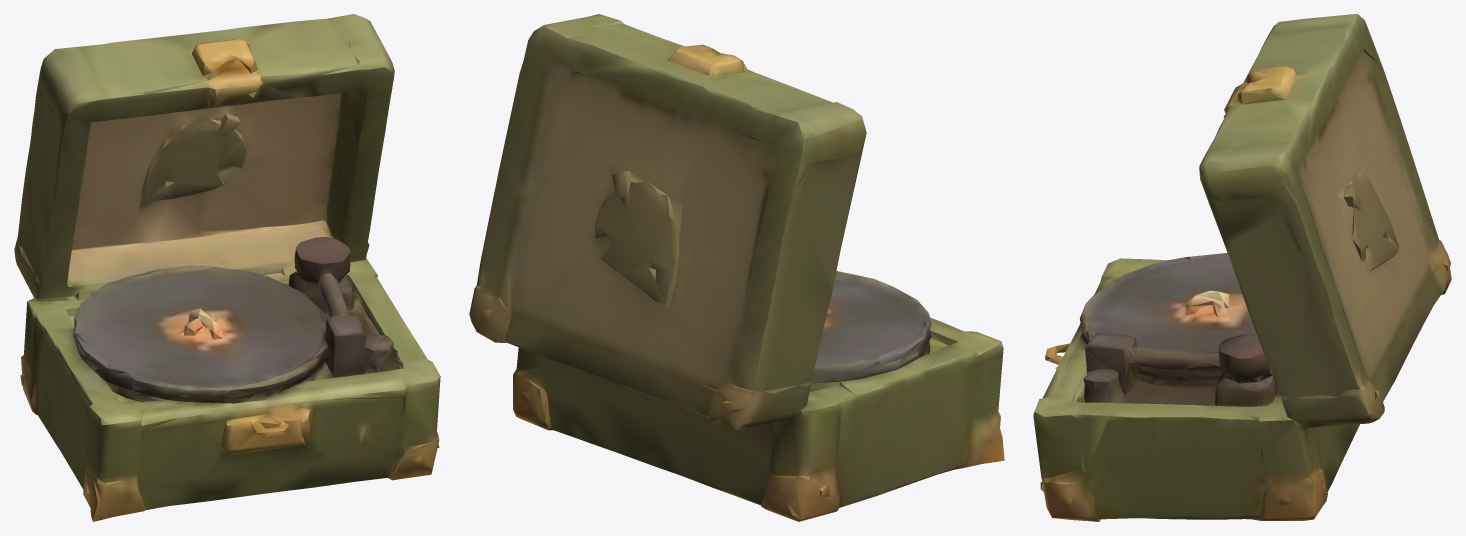
The model's file is deco12.glb.
3 renders of one model, left to right at view 1: azimuth 30°, elevation 25°; view 2: azimuth 150°, elevation 25°; view 3: azimuth 270°, elevation 25°, orthographic. The views are drawn at different scales.
Bounding box in the file's own units: 0.2044 × 0.2009 × 0.1934.
1 material, 1 textured.
